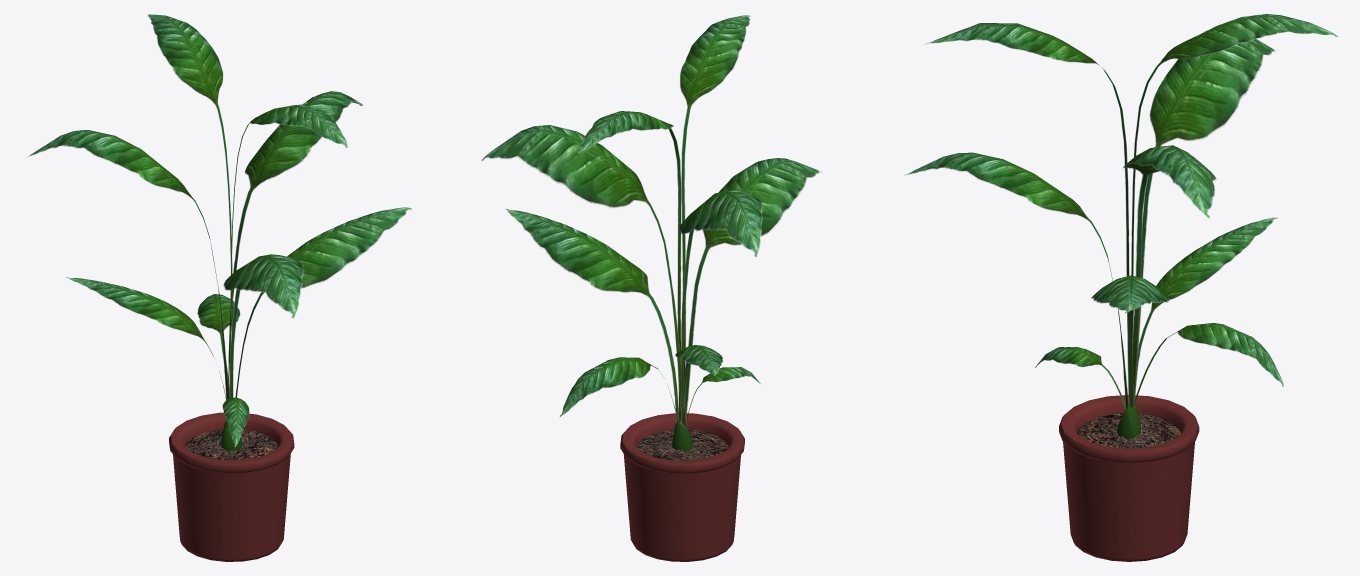
File: plant-transformed.glb
3 views of the same model, side by side, from view 1: azimuth 30°, elevation 25°; view 2: azimuth 150°, elevation 25°; view 3: azimuth 270°, elevation 25° (orthographic). The views are drawn at different scales.
Visible parts, largest first — view 1: Potted_Plant_Leaf_0, Potted_Plant_Pot_0, Potted_Plant_Dirt_0; view 2: Potted_Plant_Leaf_0, Potted_Plant_Pot_0, Potted_Plant_Dirt_0; view 3: Potted_Plant_Leaf_0, Potted_Plant_Pot_0, Potted_Plant_Dirt_0, Potted_Plant_Plant_0.
Boxes of the visible parts, bbox=[...] form: Potted_Plant_Leaf_0: bbox=[28, 14, 411, 446]; Potted_Plant_Pot_0: bbox=[169, 412, 294, 561]; Potted_Plant_Dirt_0: bbox=[185, 429, 277, 459]; Potted_Plant_Leaf_0: bbox=[481, 15, 821, 427]; Potted_Plant_Pot_0: bbox=[620, 413, 744, 561]; Potted_Plant_Dirt_0: bbox=[636, 429, 728, 460]; Potted_Plant_Leaf_0: bbox=[904, 14, 1338, 409]; Potted_Plant_Pot_0: bbox=[1059, 395, 1199, 561]; Potted_Plant_Dirt_0: bbox=[1077, 413, 1180, 448]; Potted_Plant_Plant_0: bbox=[1117, 404, 1140, 438].
Bounding box in the file's own units: 7.89 × 10.01 × 7.89.
Materials: 4 (4 with a texture image).
